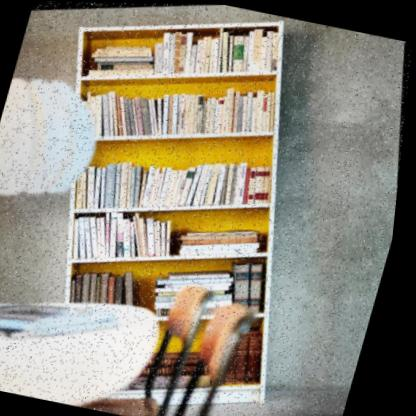Shelf: (0, 0, 378, 416)
